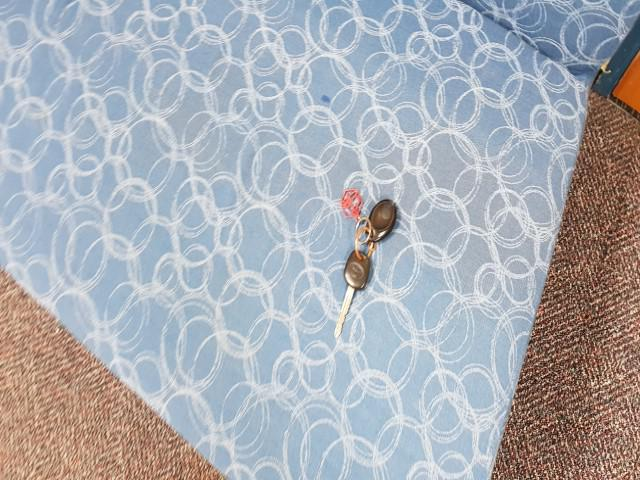key: (334, 251, 369, 336)
